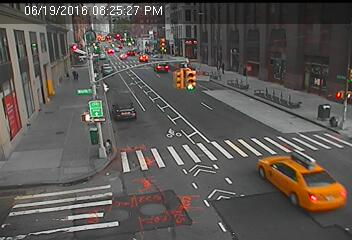neg: (212, 140, 231, 166), (170, 14, 189, 39), (264, 123, 282, 147), (68, 168, 86, 192), (246, 34, 264, 56), (287, 69, 304, 91), (112, 10, 129, 32), (237, 100, 253, 122), (27, 89, 43, 111), (313, 47, 329, 68), (308, 18, 323, 39), (23, 43, 38, 63), (142, 61, 157, 80), (50, 108, 64, 128), (201, 78, 215, 97), (112, 136, 126, 154), (114, 68, 128, 86), (309, 105, 323, 123), (255, 73, 269, 90), (78, 113, 91, 131), (184, 95, 197, 112), (114, 166, 127, 183), (93, 79, 105, 95), (297, 161, 308, 177), (131, 105, 142, 120), (285, 19, 296, 34), (211, 22, 222, 36), (34, 10, 45, 24)
pos: (239, 63, 251, 78), (70, 67, 80, 80), (220, 62, 228, 73), (65, 71, 72, 80)
